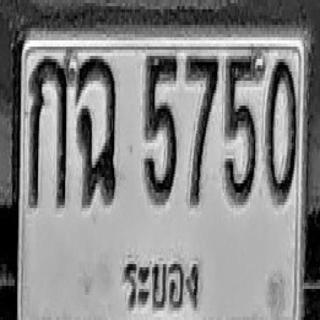A01: (29, 54, 71, 207)
A09: (76, 54, 116, 204)
N00: (265, 56, 296, 202)
N05: (224, 53, 262, 202), (144, 53, 177, 202)
N07: (185, 51, 218, 204)
P53: (122, 242, 200, 314)
